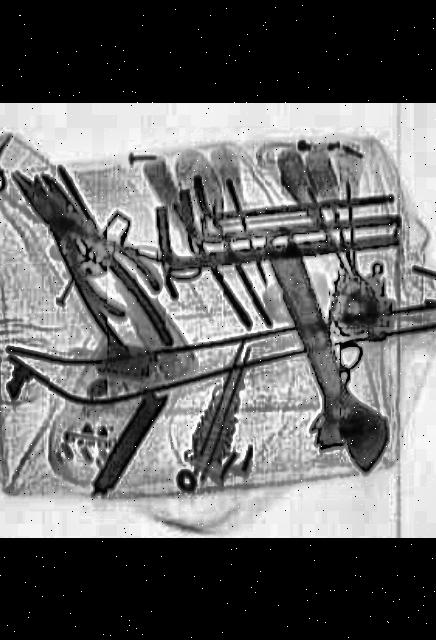Pliers: (9, 162, 183, 362), (0, 154, 172, 320)
Wrench: (239, 216, 407, 478)
